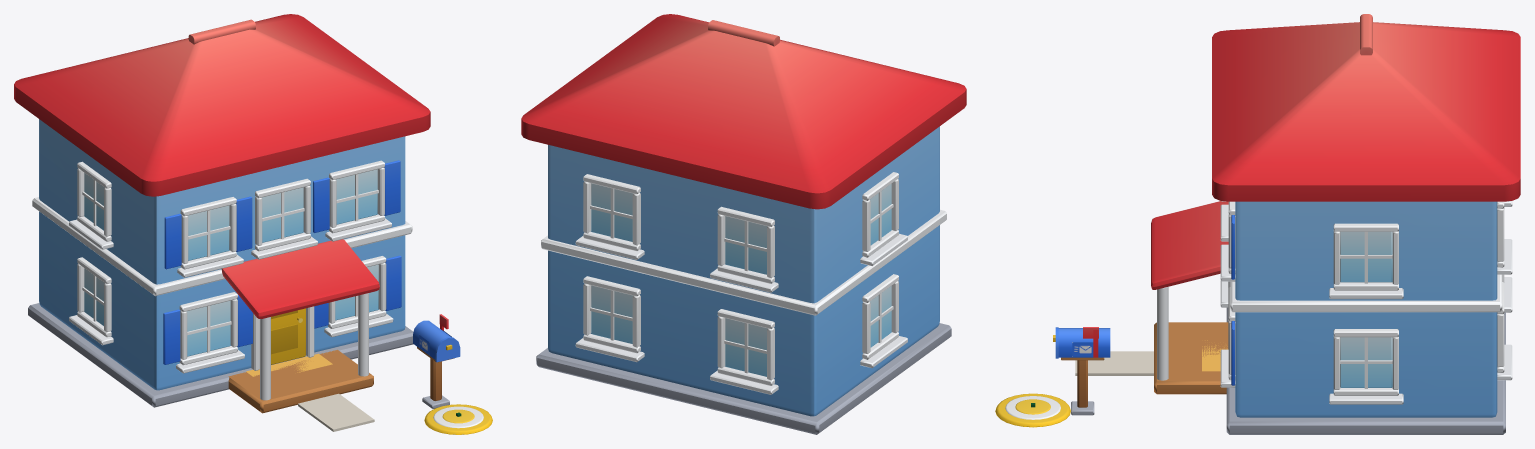
Rendered from house_twostory.glb.
3 views of the same model, side by side, from view 1: azimuth 30°, elevation 25°; view 2: azimuth 150°, elevation 25°; view 3: azimuth 270°, elevation 25° (orthographic). The views are drawn at different scales.
Parts seen in each view (by area): view 1: house_twostory; view 2: house_twostory; view 3: house_twostory.
Part boxes in pixels (x1=…): house_twostory: x1=14, y1=14, x2=492, y2=434; house_twostory: x1=521, y1=14, x2=966, y2=434; house_twostory: x1=995, y1=14, x2=1520, y2=434.
Bounding box in the file's own units: 25.2 × 25.38 × 36.1.
Materials: 1 (1 with a texture image).
